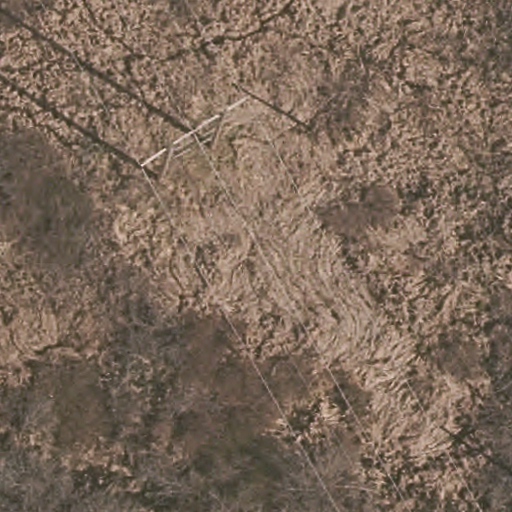DT: (127, 75, 316, 188)
